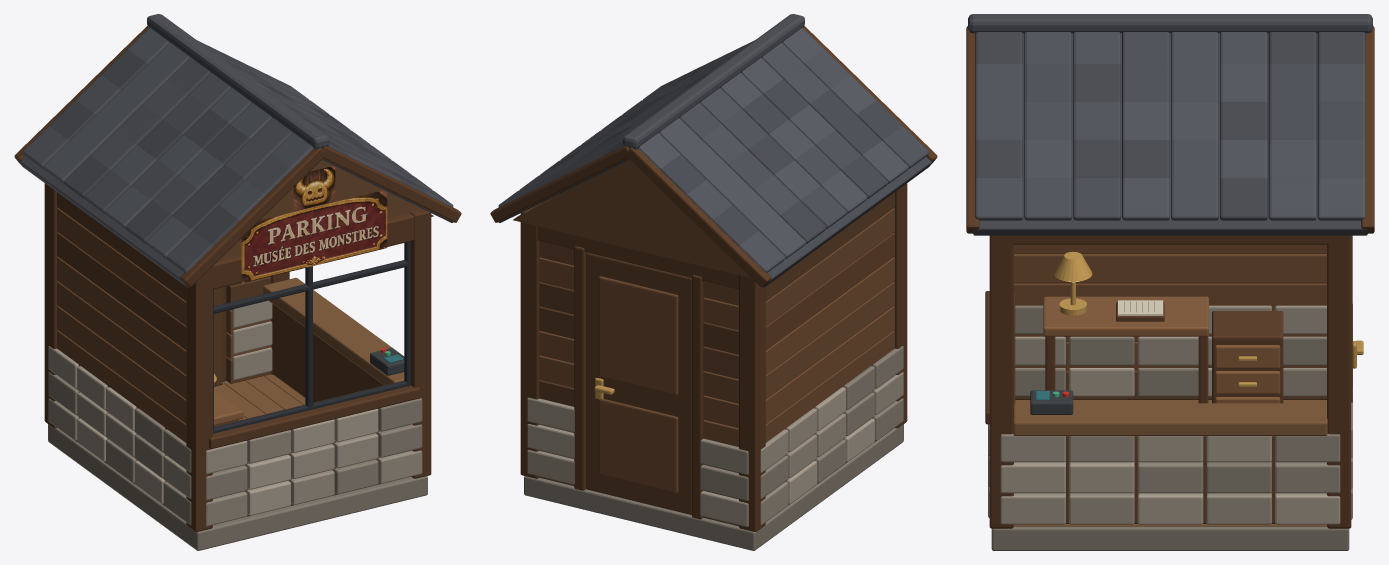
File: guerite_musee_amenagee.glb
The picture shows the model from 3 angles, left to right: view 1: azimuth 30°, elevation 25°; view 2: azimuth 150°, elevation 25°; view 3: azimuth 270°, elevation 25°; orthographic projection. The views are drawn at different scales.
Visible parts, largest first — view 1: Guerite_Musee, Mobilier_Guerite; view 2: Guerite_Musee; view 3: Guerite_Musee, Mobilier_Guerite.
Boxes of the visible parts, left/top/right/bottom form: Guerite_Musee: left=14, top=14, right=461, bottom=550; Mobilier_Guerite: left=214, top=348, right=404, bottom=426; Guerite_Musee: left=490, top=14, right=937, bottom=550; Guerite_Musee: left=966, top=14, right=1374, bottom=550; Mobilier_Guerite: left=1030, top=251, right=1283, bottom=414.
Bounding box in the file's own units: 2.67 × 3.61 × 2.85.
Materials: 30 (2 with a texture image).
